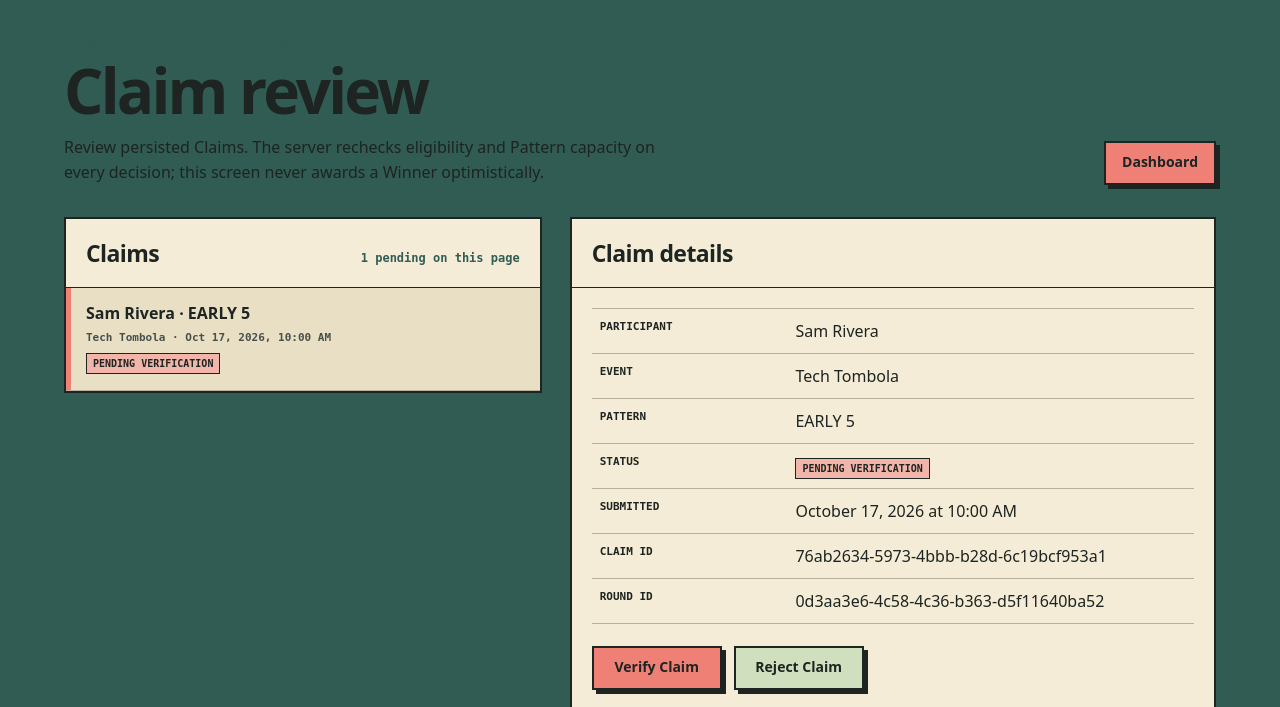
Test case: Admin Claim review › surfaces a concurrent adjudication conflict and refreshes Claim state
The width and height of the screenshot is (1280, 707).
Click the button "Verify Claim": click(657, 668) [592,646,722,690]
(page scrolled)
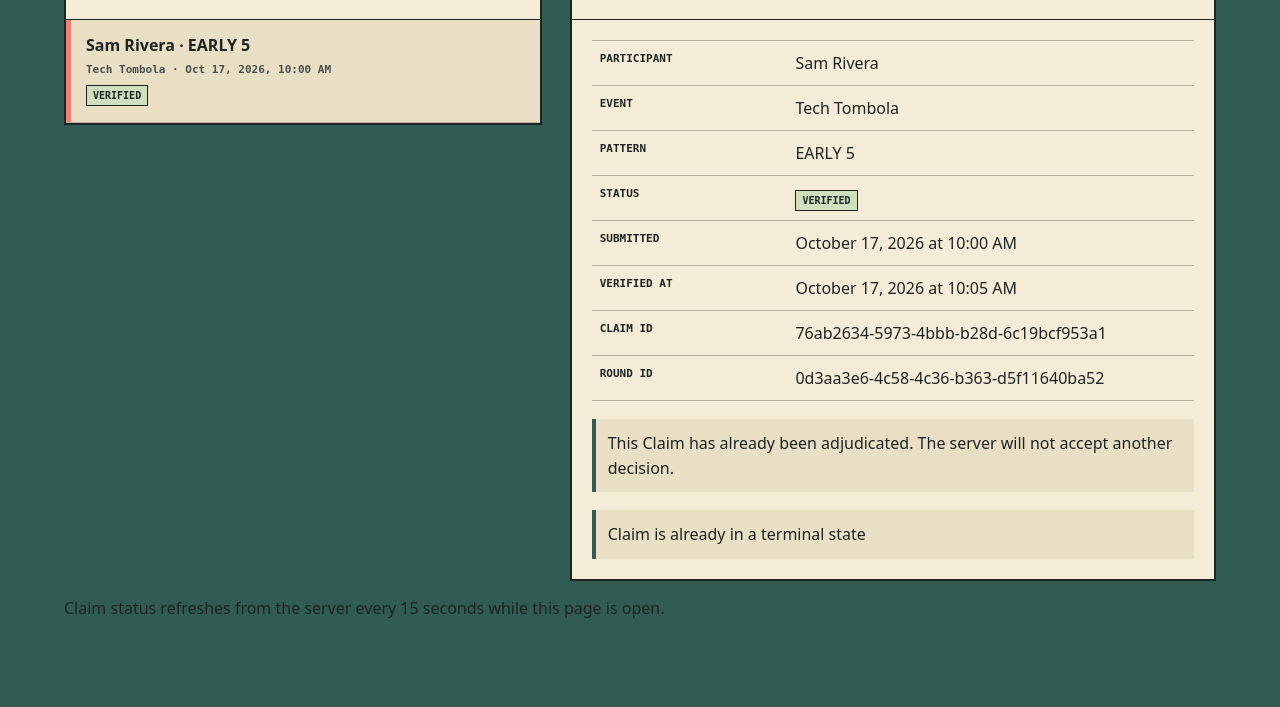
Now the text "Claim is already in a terminal state" is shown, box [592,510,1194,559]
Now the button "Verify Claim" is gone
